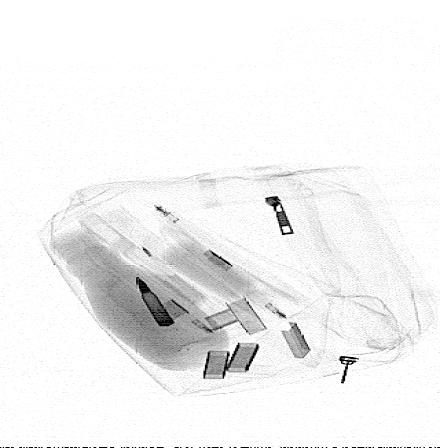Bullet: (135, 274, 175, 326)
